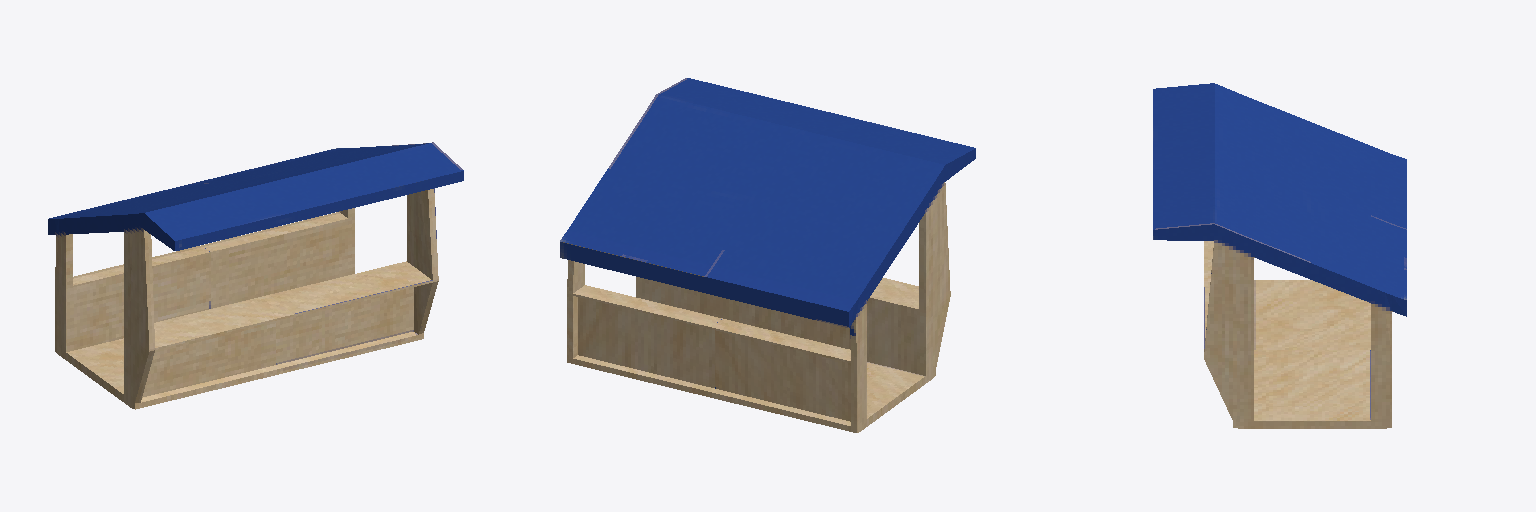
3 views of the same model, side by side, from view 1: azimuth 30°, elevation 25°; view 2: azimuth 150°, elevation 25°; view 3: azimuth 270°, elevation 25° (orthographic).
Visible parts, largest first — view 1: modulo; view 2: modulo; view 3: modulo.
Part boxes in pixels (bbox=[...]): modulo: bbox=[48, 142, 463, 409]; modulo: bbox=[560, 78, 975, 432]; modulo: bbox=[1153, 83, 1406, 428].
Size of the model in its own units: 24.12 by 16.3 by 18.39.
Materials: 1 (1 with a texture image).